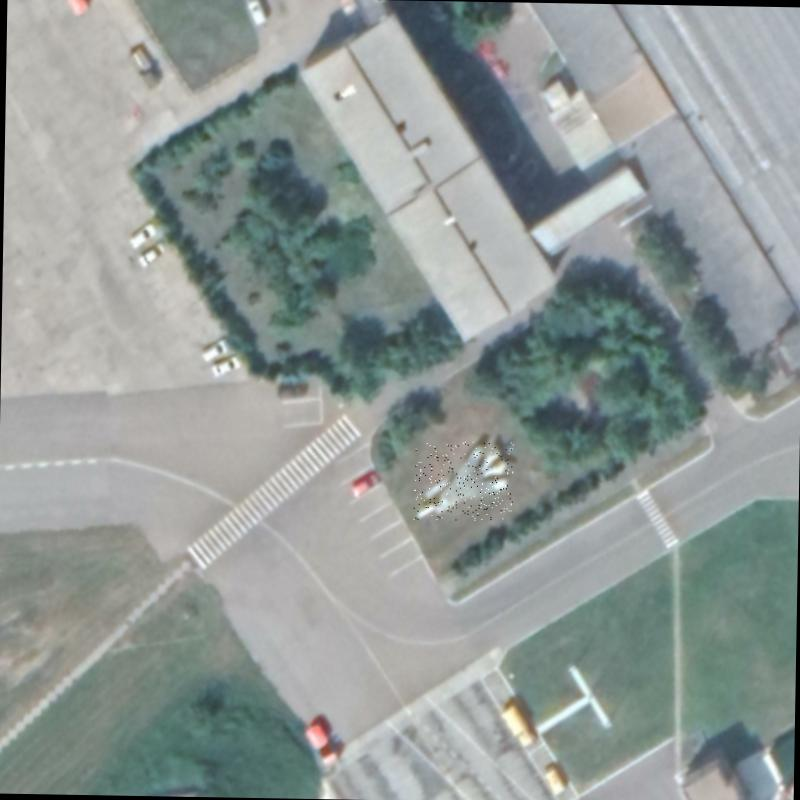A20: (413, 440, 513, 521)
